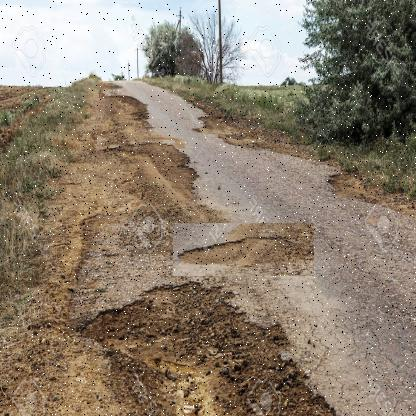pothole: (59, 268, 338, 416), (172, 223, 314, 277)
